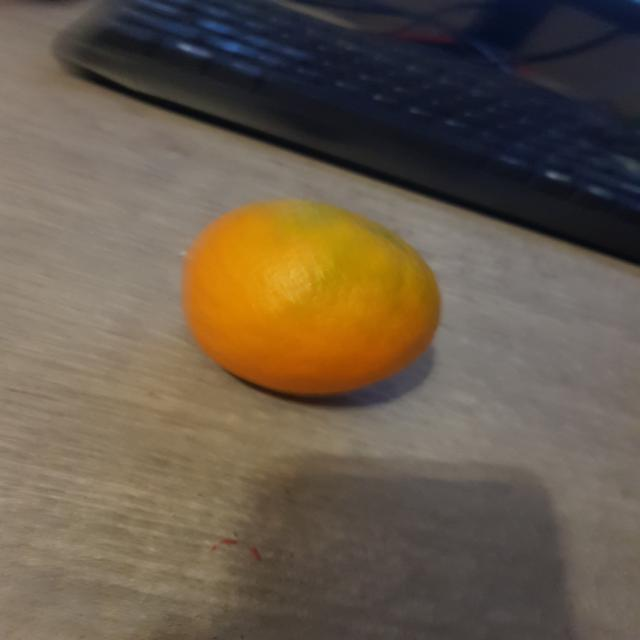Orange: (180, 199, 441, 398)
